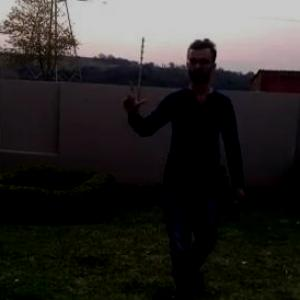land_hand: (119, 74, 149, 120)
